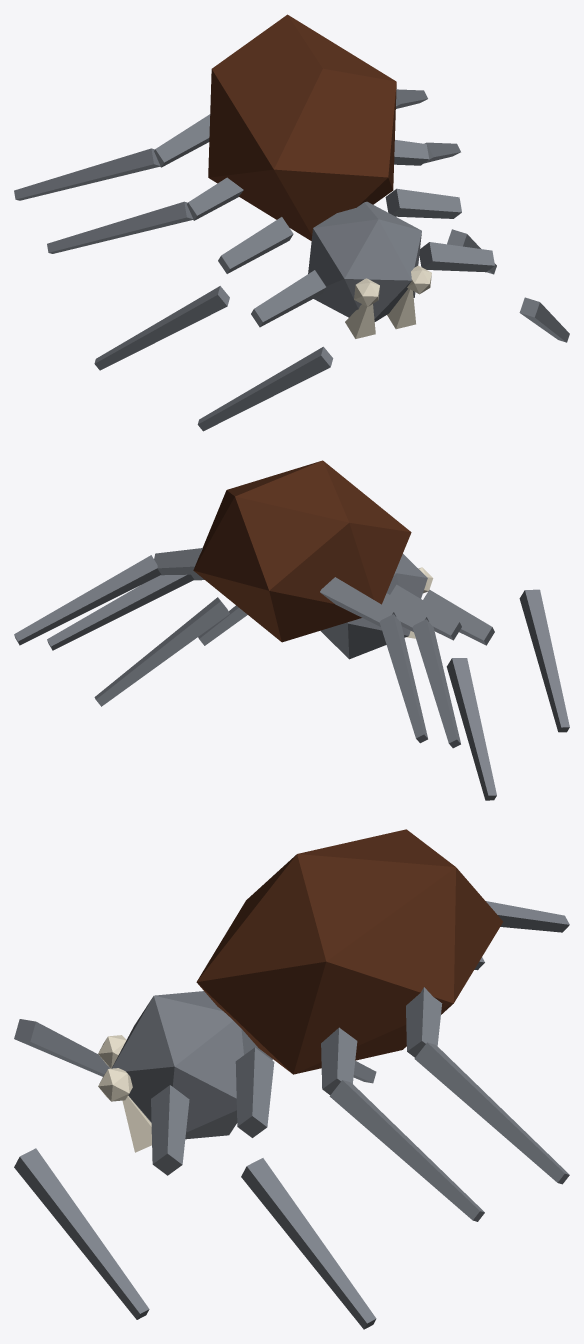
The model's file is npcpose_spider_attack_07.glb.
3 renders of one model, top to bottom at view 1: azimuth 30°, elevation 25°; view 2: azimuth 150°, elevation 25°; view 3: azimuth 270°, elevation 25°, orthographic. The views are drawn at different scales.
Visible parts, largest first — view 1: npcpose; view 2: npcpose; view 3: npcpose.
Part boxes in pixels (x1=…): npcpose: x1=14, y1=14, x2=569, y2=431; npcpose: x1=14, y1=460, x2=569, y2=800; npcpose: x1=14, y1=829, x2=569, y2=1329.
Bounding box in the file's own units: 1.43 × 0.9133 × 1.3.
